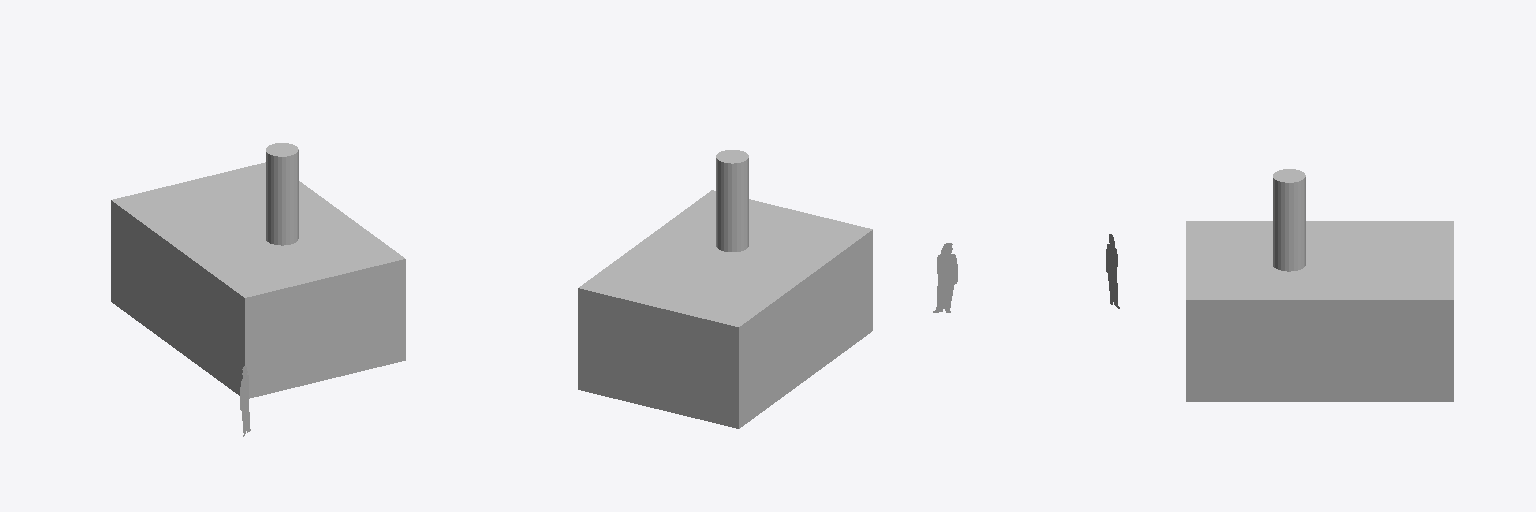
Rendered from awfulWarehouse.obj.
3 renders of one model, left to right at view 1: azimuth 30°, elevation 25°; view 2: azimuth 150°, elevation 25°; view 3: azimuth 270°, elevation 25°, orthographic.
Parts seen in each view (by area): view 1: Mesh2 Model; view 2: Mesh2 Model, Mesh1 Susan1 Model; view 3: Mesh2 Model, Mesh1 Susan1 Model.
Boxes of the visible parts, x1=… form: Mesh2 Model: x1=111, y1=143, x2=405, y2=398; Mesh2 Model: x1=578, y1=150, x2=872, y2=428; Mesh1 Susan1 Model: x1=933, y1=243, x2=957, y2=312; Mesh2 Model: x1=1186, y1=169, x2=1453, y2=401; Mesh1 Susan1 Model: x1=1106, y1=234, x2=1119, y2=308.
Bounding box in the file's own units: 5.19 × 4.59 × 7.6.